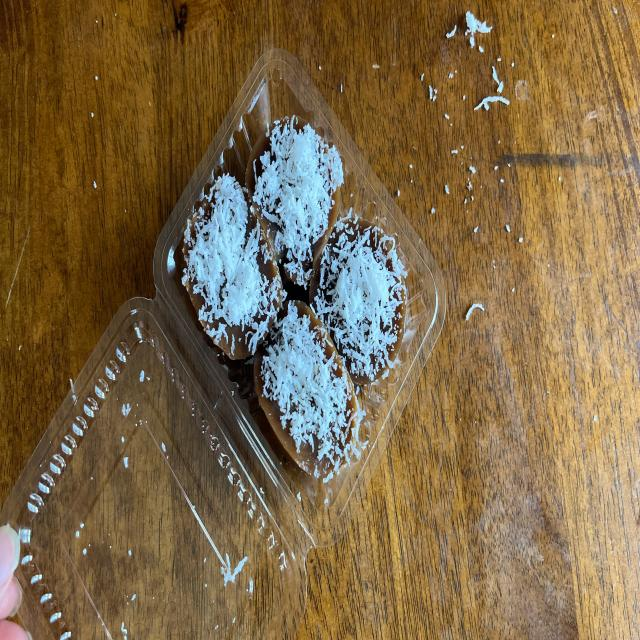Kuih lompang: (254, 300, 359, 480), (181, 173, 282, 360), (246, 116, 344, 289), (310, 216, 406, 384)
